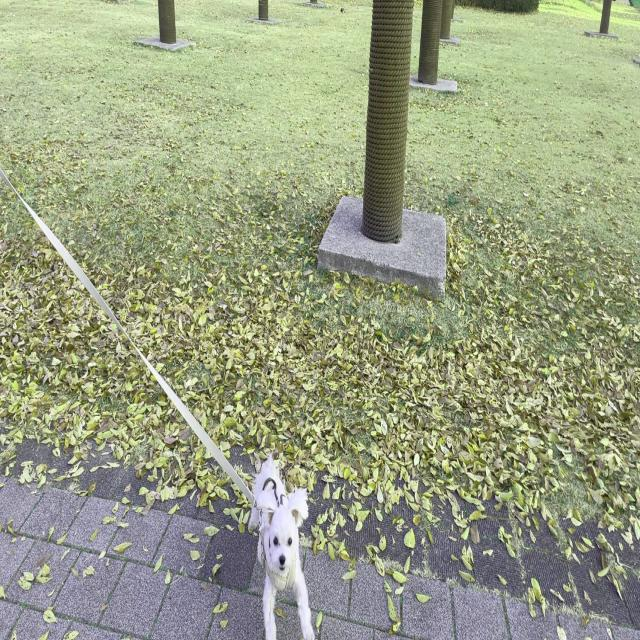Dog: (251, 452, 315, 640)
